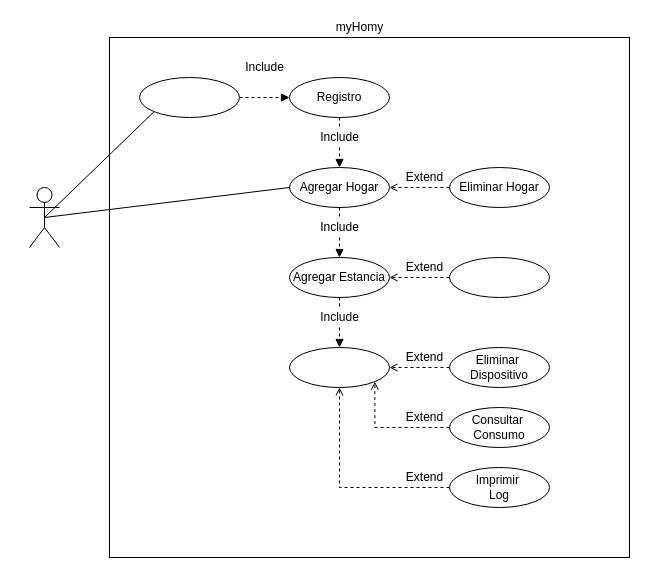
The diagram is 647 pixels wide and 575 high, and some of its shapes have lost their labels. Here are the shapes that lost their labels. From the top down, the centre of each, then its label:
point (189, 97): Inicio de sesión
point (44, 217): USUARIO
point (499, 277): Eliminar Estancia
point (339, 367): Agregar Dispositivo
